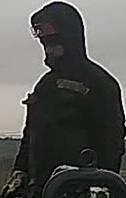gloves: (0, 169, 38, 197)
helmet: (30, 16, 64, 39)
vest: (20, 62, 125, 197)
